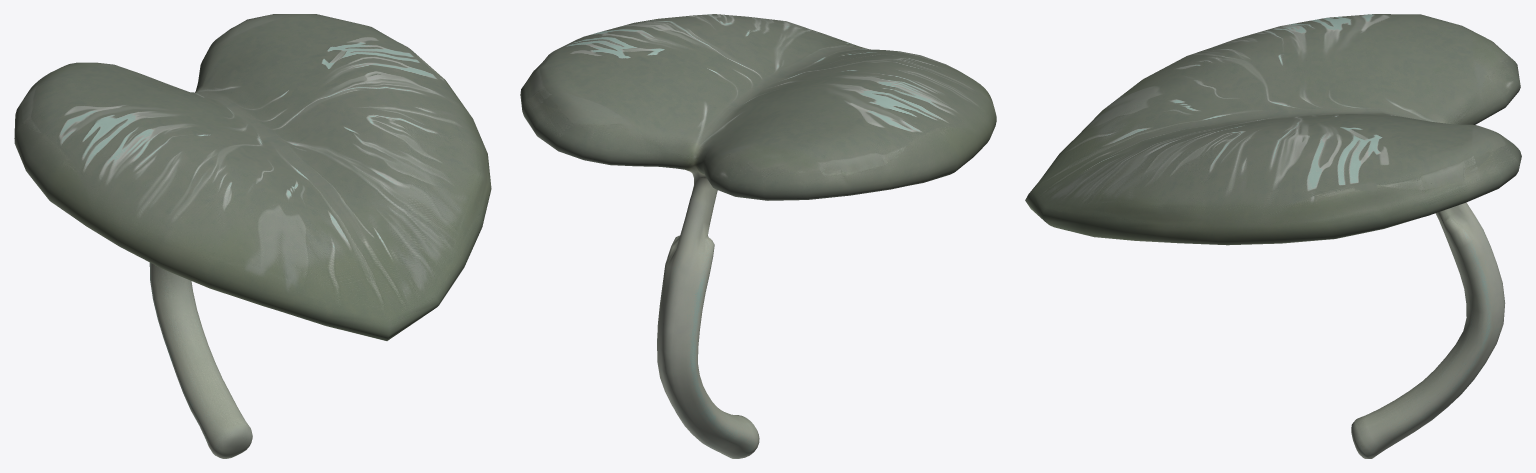
Rendered from heart_marble_2652_v2.glb.
The picture shows the model from 3 angles, left to right: view 1: azimuth 30°, elevation 25°; view 2: azimuth 150°, elevation 25°; view 3: azimuth 270°, elevation 25°; orthographic projection. The views are drawn at different scales.
Parts seen in each view (by area): view 1: world; view 2: world; view 3: world.
Part boxes in pixels (bbox=[...]): world: bbox=[14, 14, 491, 458]; world: bbox=[520, 14, 996, 458]; world: bbox=[1025, 14, 1521, 458].
Bounding box in the file's own units: 1.85 × 1.66 × 2.
Materials: 1 (1 with a texture image).
